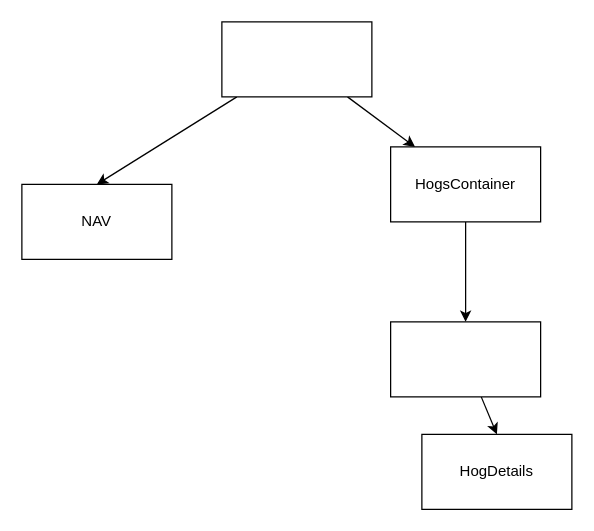
The diagram is 594 pixels wide and 531 high, and some of its shapes have lost their labels. Here are the shapes that lost their labels. From the top down, the centre of each, then its label:
At pixel 296 59: "App".
At pixel 465 359: "HogTitle".
